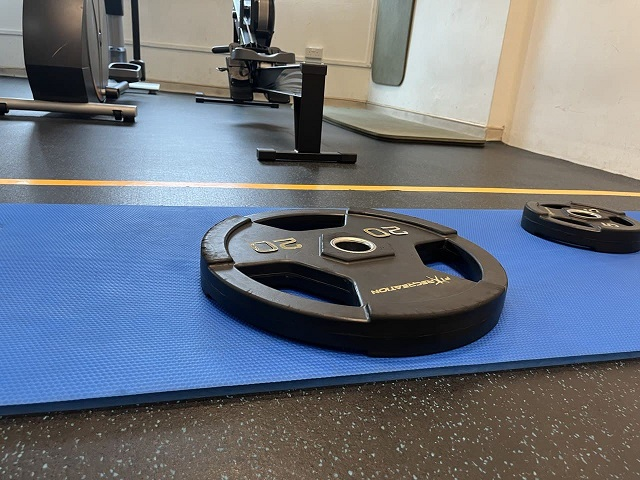weights: (197, 206, 510, 360), (518, 197, 640, 253)
